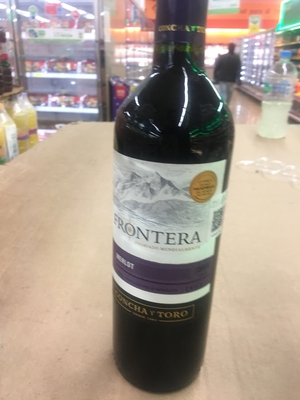frontera merlot: (100, 2, 246, 400)
